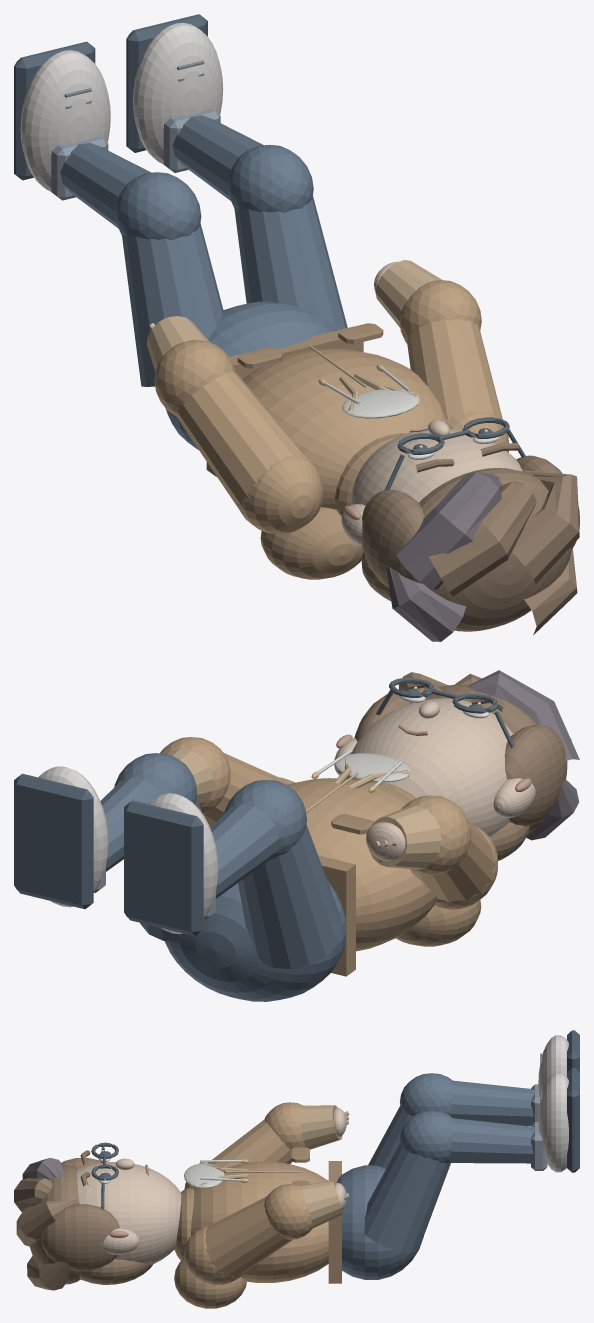
The model's file is growth_idle_0.glb.
The picture shows the model from 3 angles, top to bottom: view 1: azimuth 30°, elevation 25°; view 2: azimuth 150°, elevation 25°; view 3: azimuth 270°, elevation 25°; orthographic projection. The views are drawn at different scales.
Parts seen in each view (by area): view 1: 0000__hoodie_main_torso, 0065__jeans_thigh, 0046__jeans_thigh, 0057__sleeve_upper, 0050__sneaker, 0069__sneaker, 0076__sleeve_upper, 0022__hair_crown, 0017__face_head, 0026__hair_lock_0, 0027__hair_lock_1, 0014__pants_pelvis (+22 smaller); view 2: 0017__face_head, 0000__hoodie_main_torso, 0046__jeans_thigh, 0070__rubber_sole, 0051__rubber_sole, 0014__pants_pelvis, 0024__temple_side, 0048__jeans_shin, 0047__knee_fold, 0057__sleeve_upper, 0026__hair_lock_0, 0059__sleeve_forearm (+21 smaller); view 3: 0000__hoodie_main_torso, 0017__face_head, 0065__jeans_thigh, 0014__pants_pelvis, 0076__sleeve_upper, 0025__temple_side, 0067__jeans_shin, 0048__jeans_shin, 0069__sneaker, 0066__knee_fold, 0077__elbow_fold, 0057__sleeve_upper (+21 smaller).
Boxes of the visible parts, x1,y1,x2,y2 form: 0000__hoodie_main_torso: [243, 349, 445, 509]; 0065__jeans_thigh: [234, 196, 347, 330]; 0046__jeans_thigh: [122, 223, 223, 386]; 0057__sleeve_upper: [176, 370, 303, 510]; 0050__sneaker: [20, 50, 110, 191]; 0069__sneaker: [133, 22, 223, 164]; 0076__sleeve_upper: [407, 318, 502, 420]; 0022__hair_crown: [419, 468, 571, 631]; 0017__face_head: [351, 429, 522, 505]; 0026__hair_lock_0: [395, 472, 502, 589]; 0027__hair_lock_1: [428, 481, 536, 596]; 0014__pants_pelvis: [165, 301, 336, 449]; 0017__face_head: [346, 698, 513, 836]; 0000__hoodie_main_torso: [287, 778, 436, 951]; 0046__jeans_thigh: [238, 824, 343, 968]; 0070__rubber_sole: [14, 773, 93, 909]; 0051__rubber_sole: [124, 800, 203, 935]; 0014__pants_pelvis: [164, 881, 346, 1001]; 0024__temple_side: [504, 724, 567, 826]; 0048__jeans_shin: [210, 804, 279, 898]; 0047__knee_fold: [224, 780, 306, 859]; 0057__sleeve_upper: [410, 821, 496, 902]; 0026__hair_lock_0: [467, 670, 579, 760]; 0059__sleeve_forearm: [368, 805, 441, 869]; 0000__hoodie_main_torso: [191, 1161, 328, 1282]; 0017__face_head: [77, 1162, 181, 1264]; 0065__jeans_thigh: [364, 1143, 450, 1252]; 0014__pants_pelvis: [336, 1165, 423, 1279]; 0076__sleeve_upper: [205, 1196, 292, 1277]; 0025__temple_side: [41, 1204, 119, 1271]; 0067__jeans_shin: [449, 1118, 535, 1163]; 0048__jeans_shin: [450, 1080, 535, 1125]; 0069__sneaker: [538, 1072, 568, 1172]; 0066__knee_fold: [399, 1110, 453, 1163]; 0077__elbow_fold: [264, 1184, 312, 1239]; 0057__sleeve_upper: [207, 1119, 292, 1167].
Size of the model in its own units: 0.816 by 0.8228 by 1.85.
